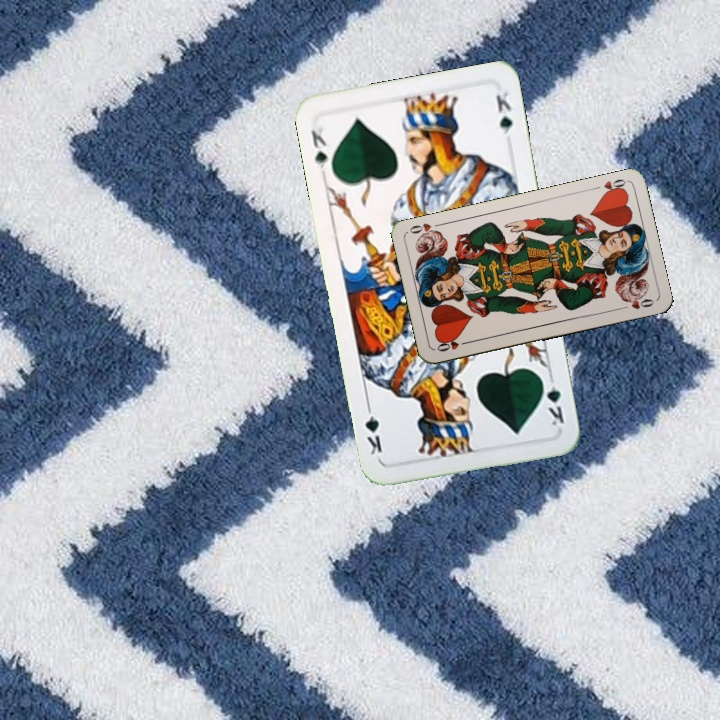GK: (537, 371, 567, 429), (307, 118, 330, 171)
HO: (433, 335, 472, 354), (599, 175, 629, 198)
